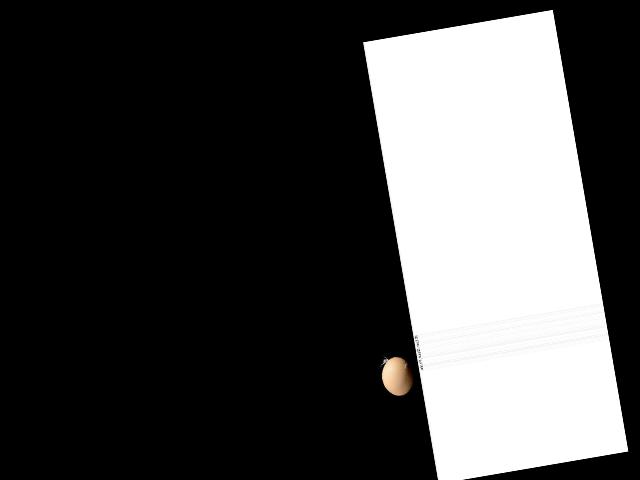egg: (379, 355, 416, 398)
